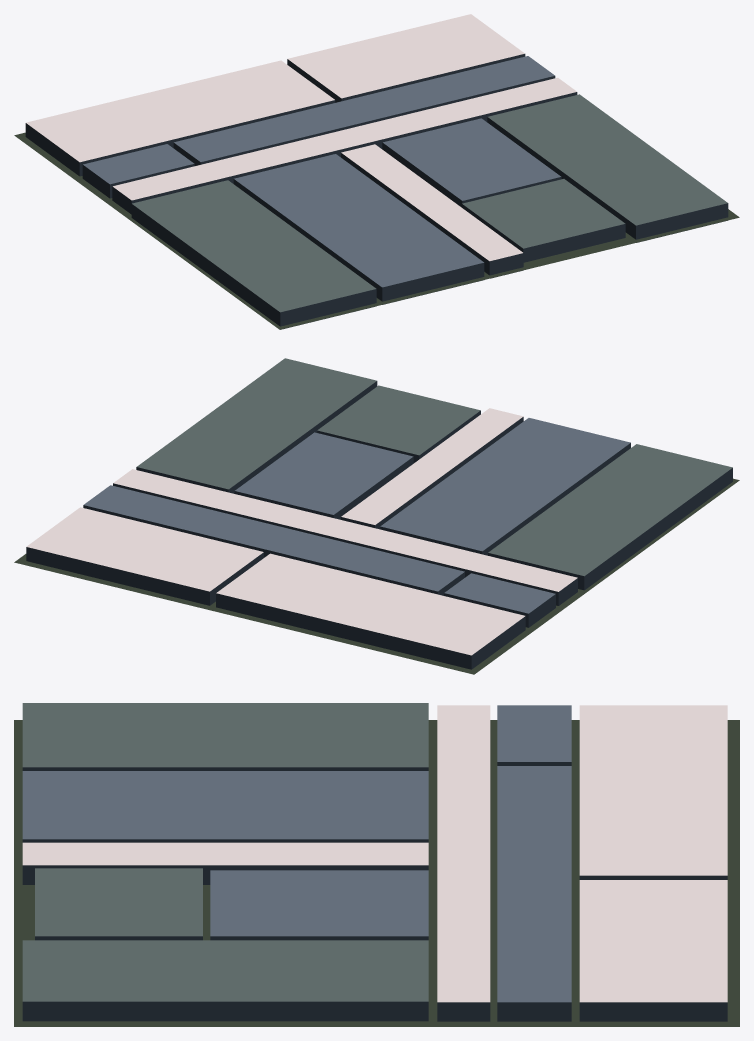
Rendered from Environment_Floor_5_TrimDetail.fbx.
The picture shows the model from 3 angles, top to bottom: view 1: azimuth 30°, elevation 25°; view 2: azimuth 150°, elevation 25°; view 3: azimuth 270°, elevation 25°; orthographic projection. The views are drawn at different scales.
Visible parts, largest first — view 1: Floor_5_TrimDetail; view 2: Floor_5_TrimDetail; view 3: Floor_5_TrimDetail.
Boxes of the visible parts, left/top/right/bottom form: Floor_5_TrimDetail: left=14, top=14, right=739, bottom=329; Floor_5_TrimDetail: left=14, top=358, right=739, bottom=674; Floor_5_TrimDetail: left=14, top=703, right=739, bottom=1026.
Size of the model in its own units: 400 by 14.56 by 400.
